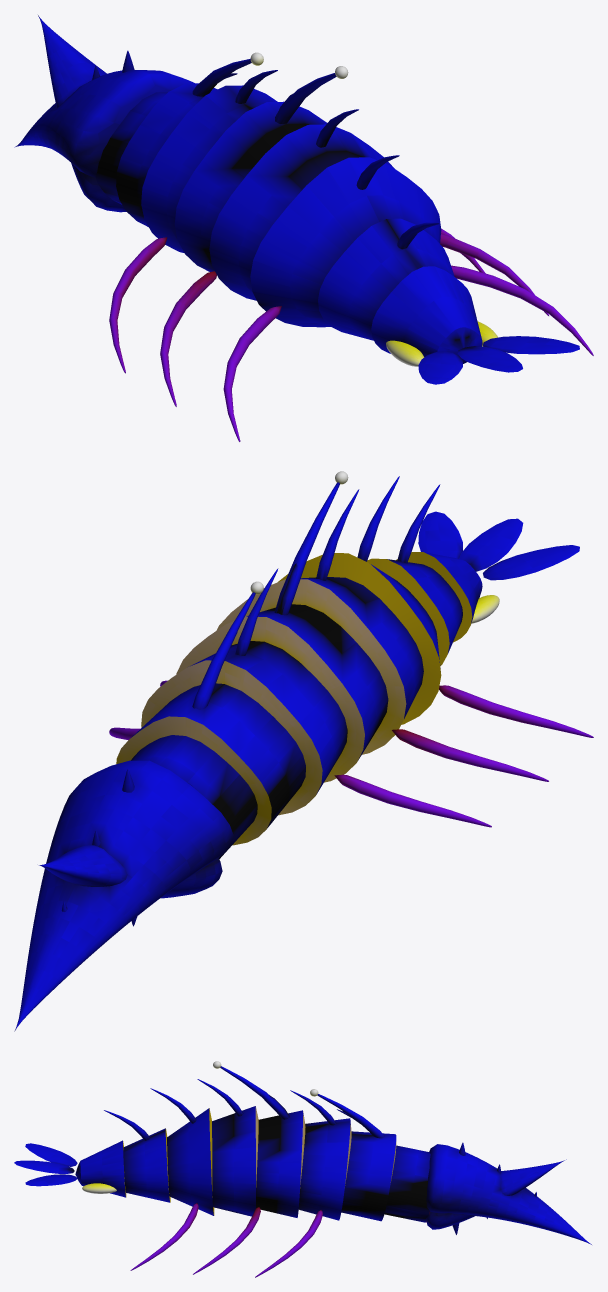
The model's file is craigon_communion_destroyer.fbx.
3 renders of one model, top to bottom at view 1: azimuth 30°, elevation 25°; view 2: azimuth 150°, elevation 25°; view 3: azimuth 270°, elevation 25°, orthographic. The views are drawn at different scales.
Visible parts, largest first — view 1: craigon_communion_destroyer; view 2: craigon_communion_destroyer; view 3: craigon_communion_destroyer.
Part boxes in pixels (left/top/right/bottom): craigon_communion_destroyer: left=14, top=15, right=593, bottom=441; craigon_communion_destroyer: left=14, top=471, right=593, bottom=1031; craigon_communion_destroyer: left=14, top=1061, right=591, bottom=1277.
Size of the model in its own units: 0.9584 by 0.7864 by 2.24.
